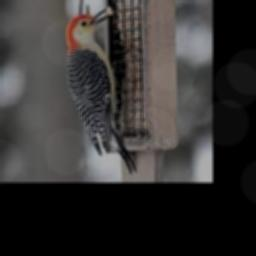Woodpecker: (66, 7, 136, 173)
